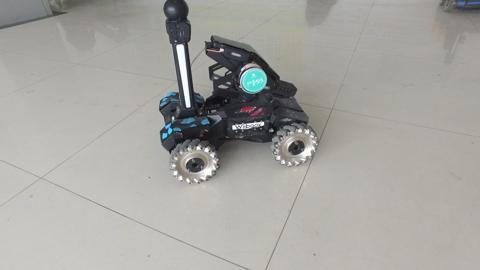chariot: (157, 1, 319, 185)
